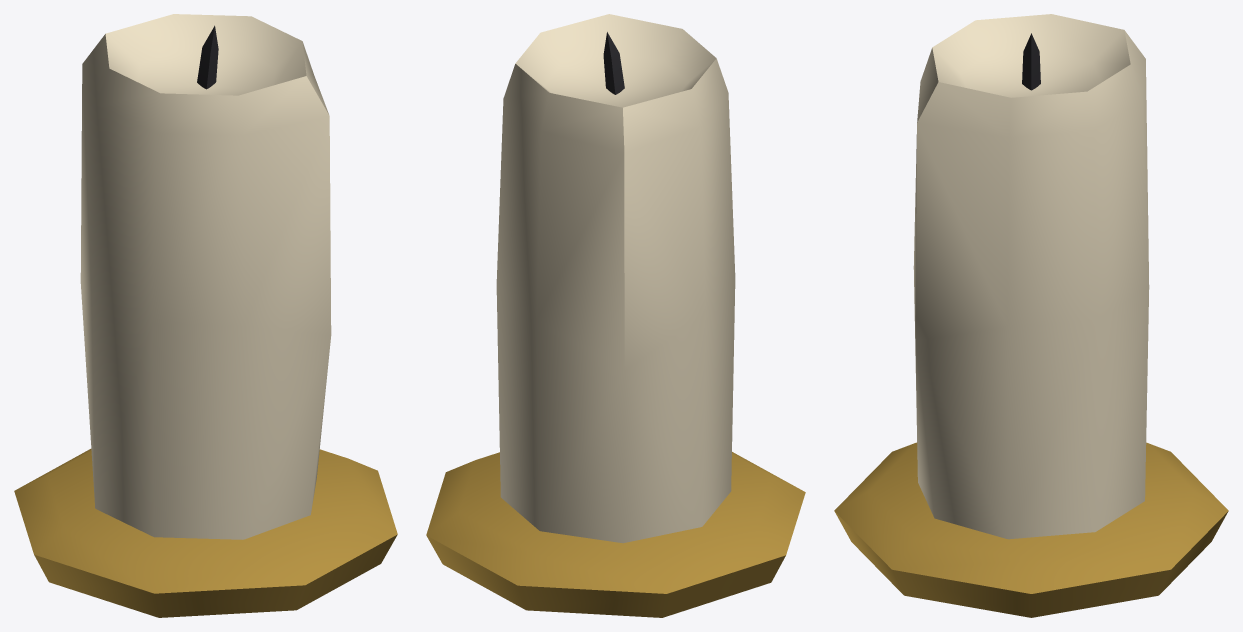
Rendered from candle.glb.
3 renders of one model, left to right at view 1: azimuth 30°, elevation 25°; view 2: azimuth 150°, elevation 25°; view 3: azimuth 270°, elevation 25°, orthographic.
Visible parts, largest first — view 1: candle; view 2: candle; view 3: candle.
Part boxes in pixels (left/top/right/bottom): candle: left=14, top=14, right=397, bottom=617; candle: left=426, top=14, right=805, bottom=617; candle: left=834, top=14, right=1228, bottom=617.
Size of the model in its own units: 0.046 by 0.066 by 0.046.
